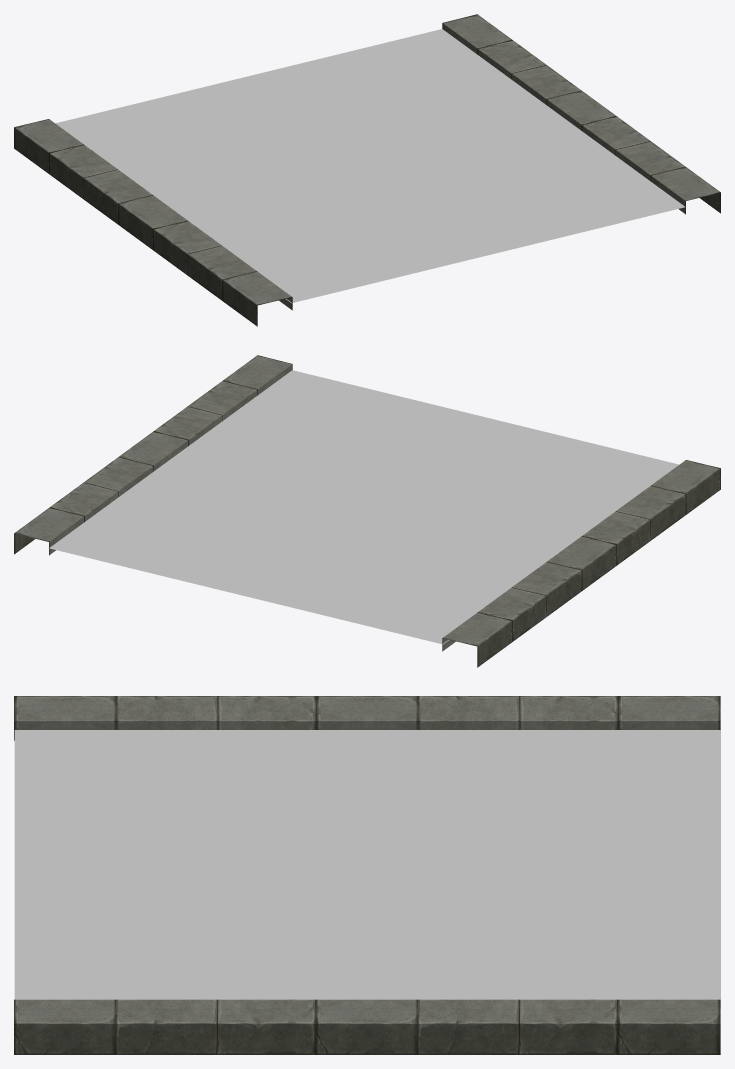
File: JiaYeSi_ShiTiao_2.FBX
3 views of the same model, one above another, from view 1: azimuth 30°, elevation 25°; view 2: azimuth 150°, elevation 25°; view 3: azimuth 270°, elevation 25° (orthographic). The views are drawn at different scales.
Parts seen in each view (by area): view 1: JiaYeSi_ShiTiao_2b, JiaYeSi_ShiTiao_2a; view 2: JiaYeSi_ShiTiao_2b, JiaYeSi_ShiTiao_2a; view 3: JiaYeSi_ShiTiao_2b, JiaYeSi_ShiTiao_2a.
Boxes of the visible parts, <box> form: JiaYeSi_ShiTiao_2b: <box>55,29,686,303</box>; JiaYeSi_ShiTiao_2a: <box>14,14,720,326</box>; JiaYeSi_ShiTiao_2b: <box>48,370,678,644</box>; JiaYeSi_ShiTiao_2a: <box>14,355,720,667</box>; JiaYeSi_ShiTiao_2b: <box>14,729,720,1008</box>; JiaYeSi_ShiTiao_2a: <box>14,696,720,1054</box>.
Bounding box in the file's own units: 918 × 40.25 × 836.
